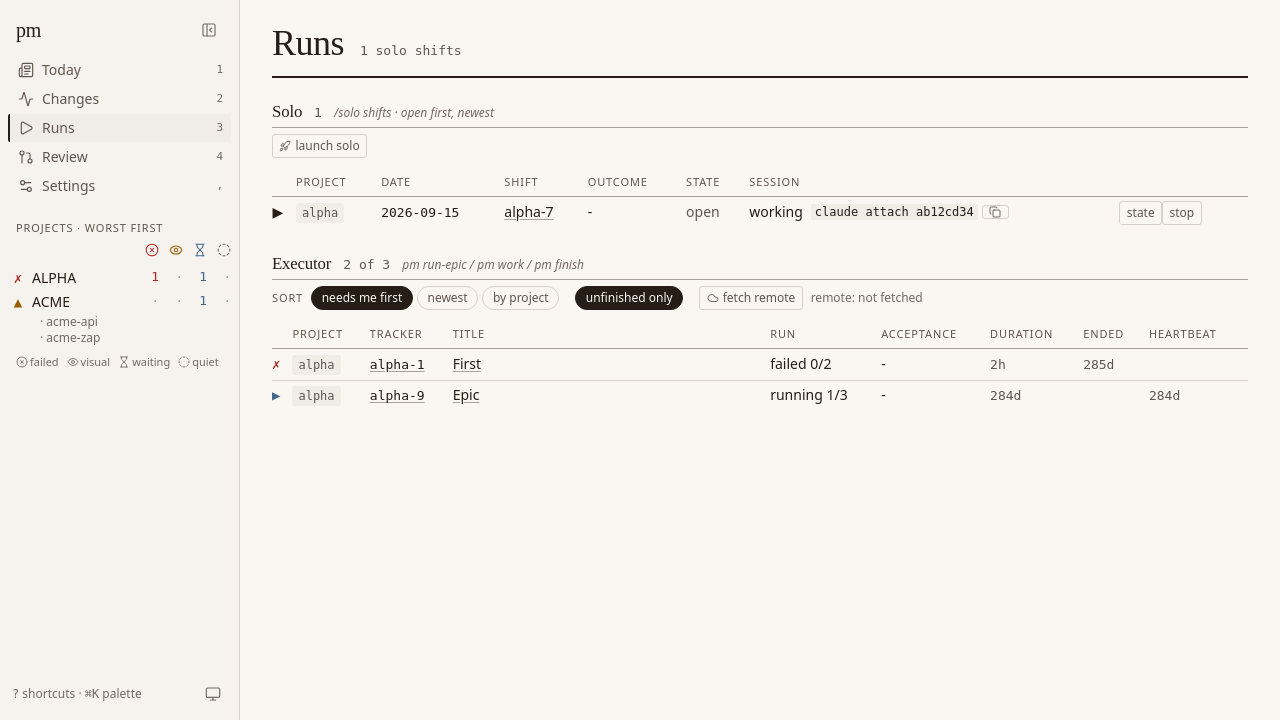
it: solo launch goes through the dialog with the claude --bg preview › a launch shows its state and attach command on the shift row, and stop goes through the dialog
The width and height of the screenshot is (1280, 720).
Expected: the button named "copy claude attach ab12cd34" is shown, [982,205,1009,219]
Click the button "stop": (1182, 213) [1162,201,1202,225]
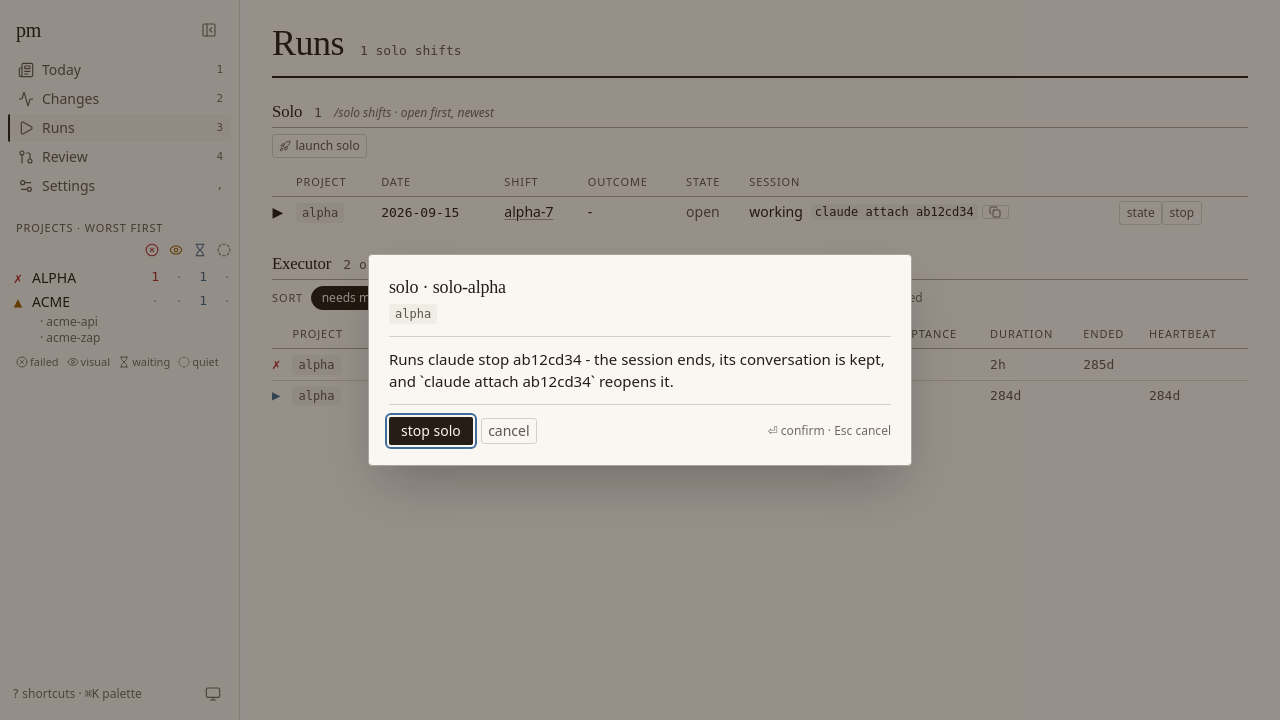
Result: the text "claude stop ab12cd34" is shown at [389,350,885,391]
Click the button "stop solo": (431, 431) [389,417,473,445]
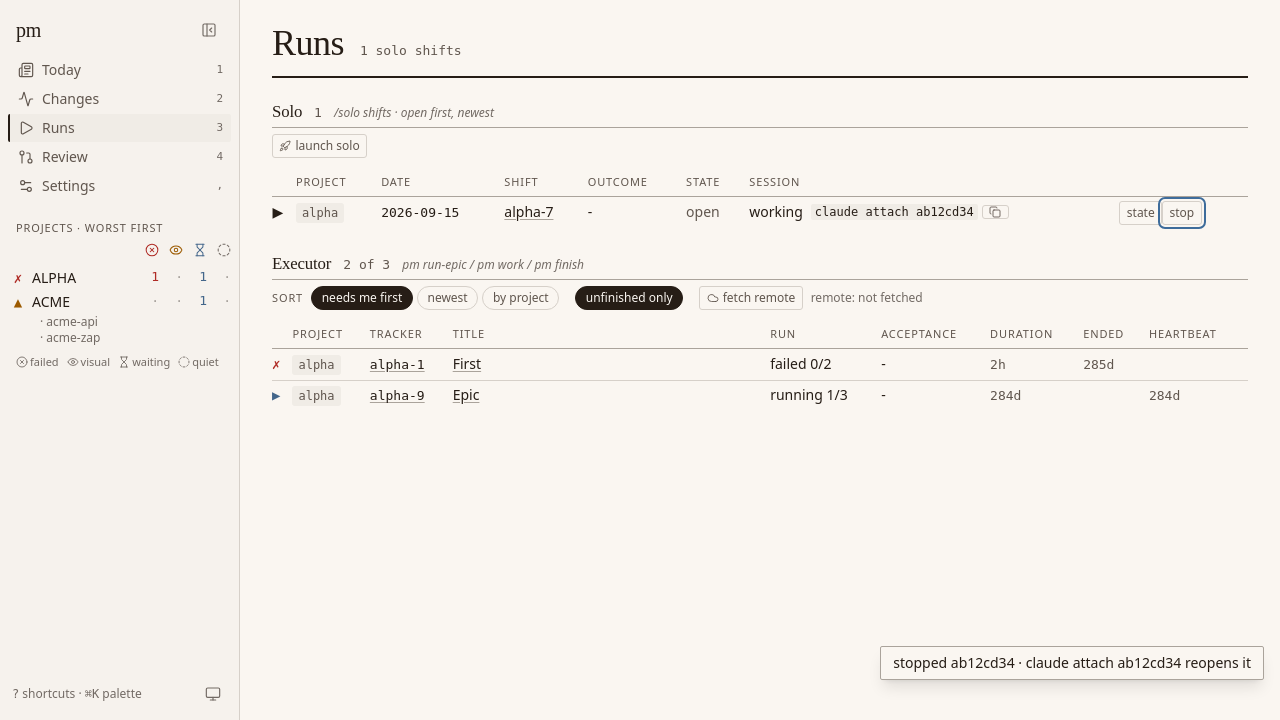
Result: the message shows "stopped ab12cd34" at [893,653,1251,672]
